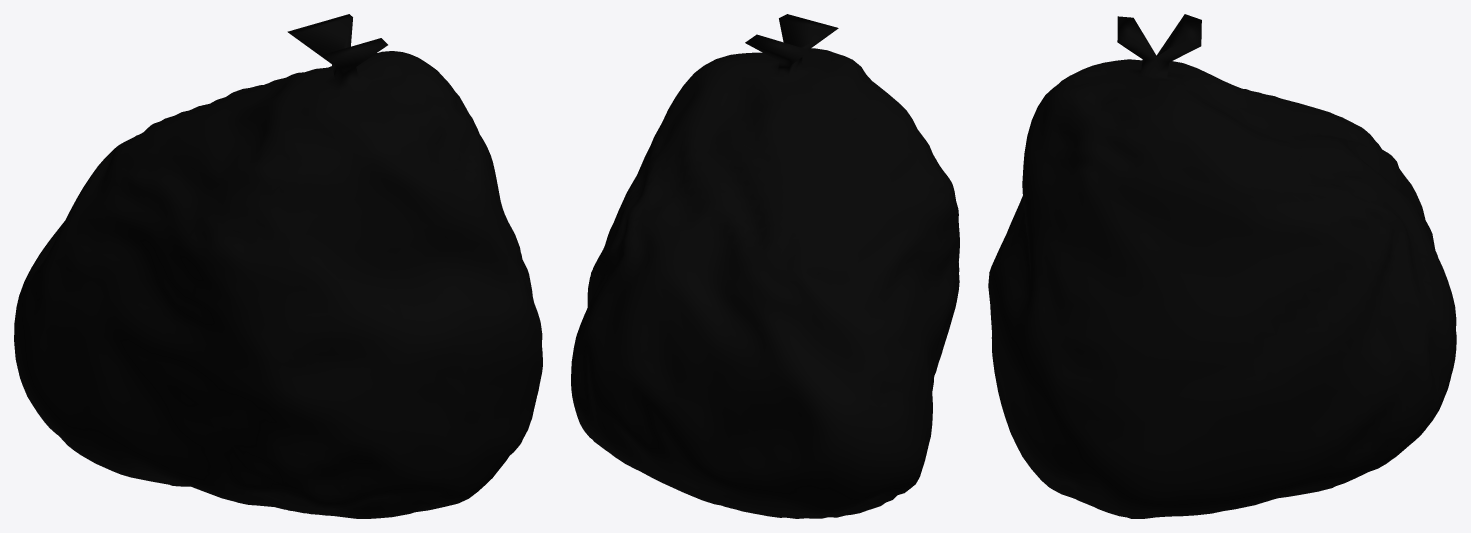
Rendered from SM_Env_TrashBags.fbx.
3 views of the same model, side by side, from view 1: azimuth 30°, elevation 25°; view 2: azimuth 150°, elevation 25°; view 3: azimuth 270°, elevation 25° (orthographic). The views are drawn at different scales.
Visible parts, largest first — view 1: SacoLixo; view 2: SacoLixo; view 3: SacoLixo.
Part boxes in pixels (x1,y1,x2,y2): SacoLixo: (14,14,542,518); SacoLixo: (571,14,959,518); SacoLixo: (988,14,1456,518).
Bounding box in the file's own units: 292 × 327 × 305.
1 material, 1 textured.
